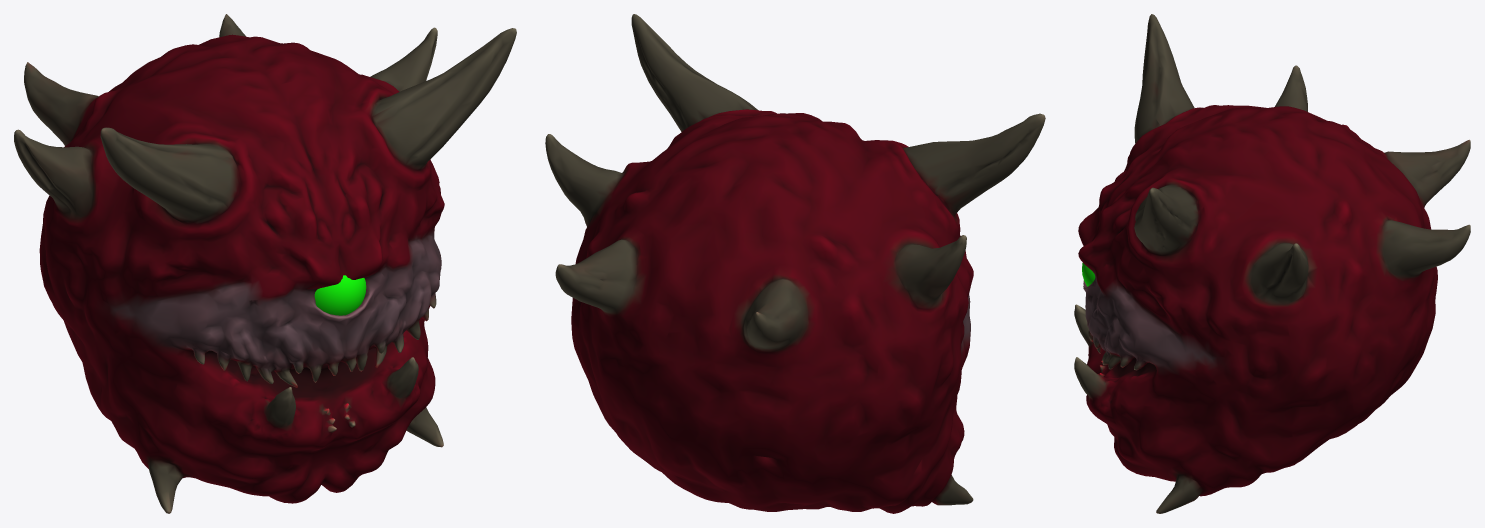
Rendered from cacodemon.fbx.
3 renders of one model, left to right at view 1: azimuth 30°, elevation 25°; view 2: azimuth 150°, elevation 25°; view 3: azimuth 270°, elevation 25°, orthographic. The views are drawn at different scales.
Visible parts, largest first — view 1: LowPoly, Sphere; view 2: LowPoly; view 3: LowPoly.
Boxes of the visible parts, box(x1,y1,x2,y2) form: LowPoly: box(14, 14, 516, 513); Sphere: box(314, 275, 366, 315); LowPoly: box(545, 14, 1045, 513); LowPoly: box(1074, 14, 1470, 513).
Size of the model in its own units: 829 by 776 by 770.
